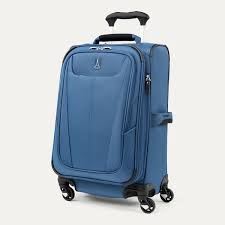suitcase: (50, 10, 176, 214)
